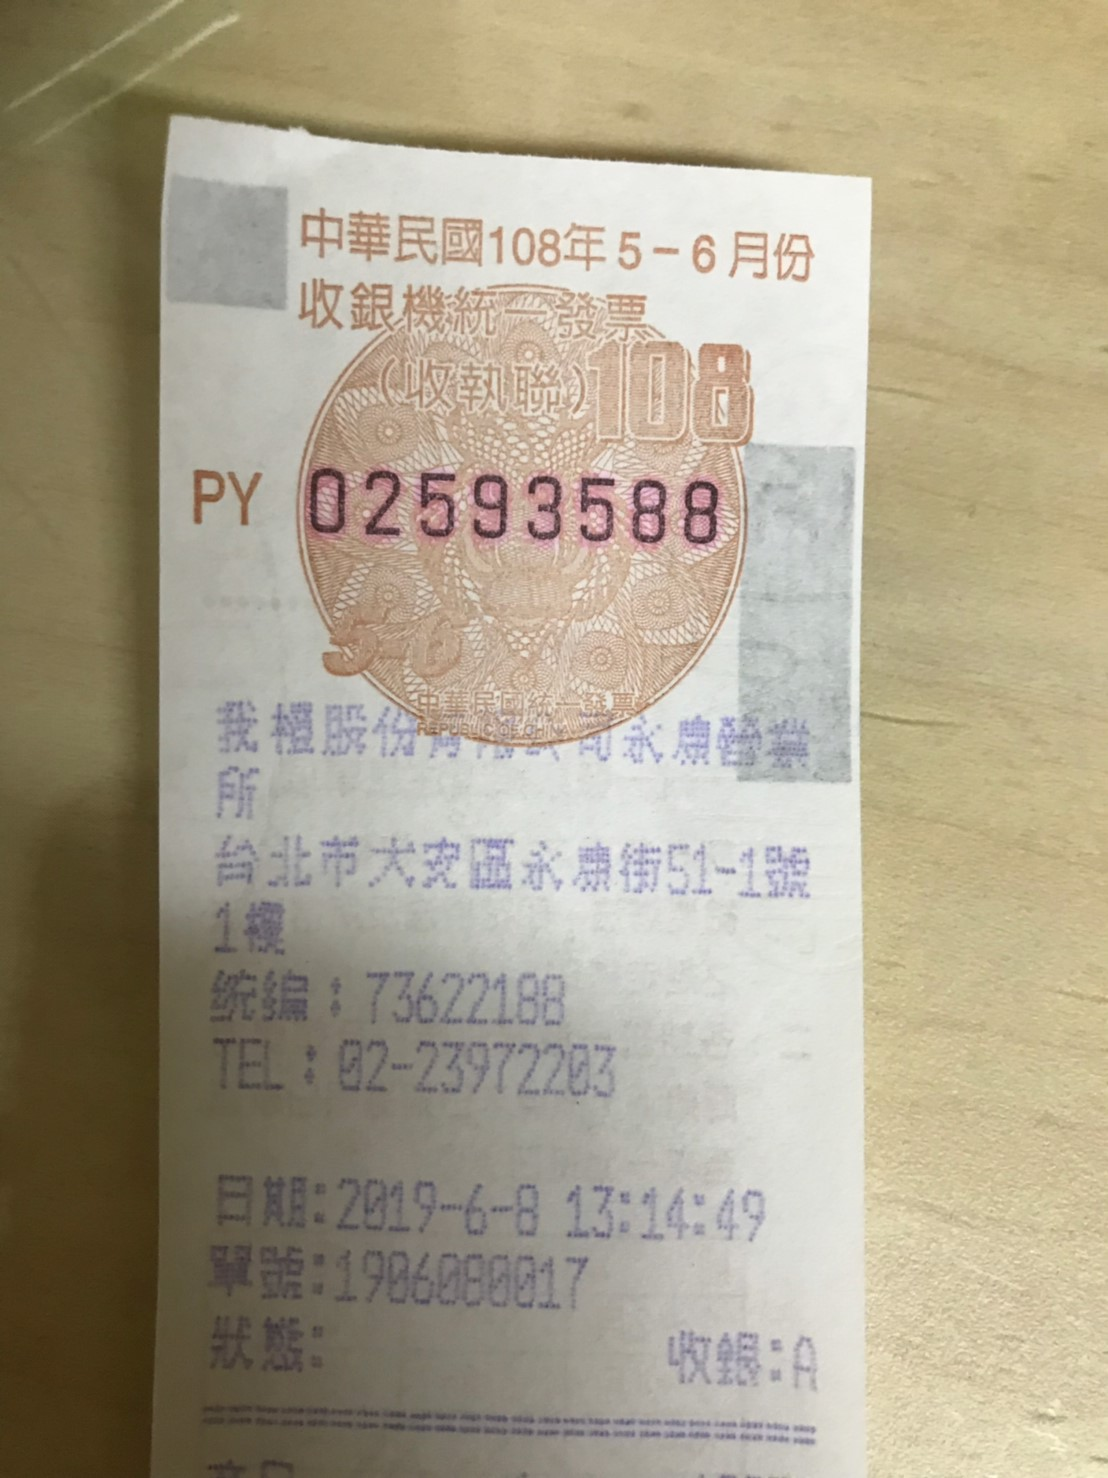Date_Old: (492, 208, 824, 283)
Number_Old: (306, 452, 731, 550)
